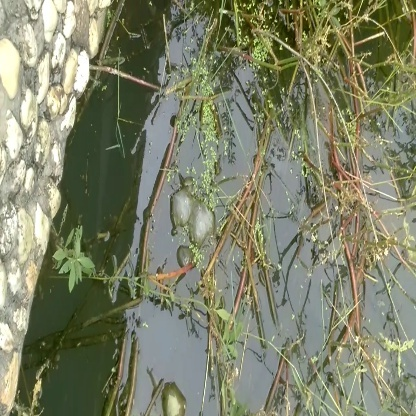plastic-bag: (169, 178, 218, 268)
